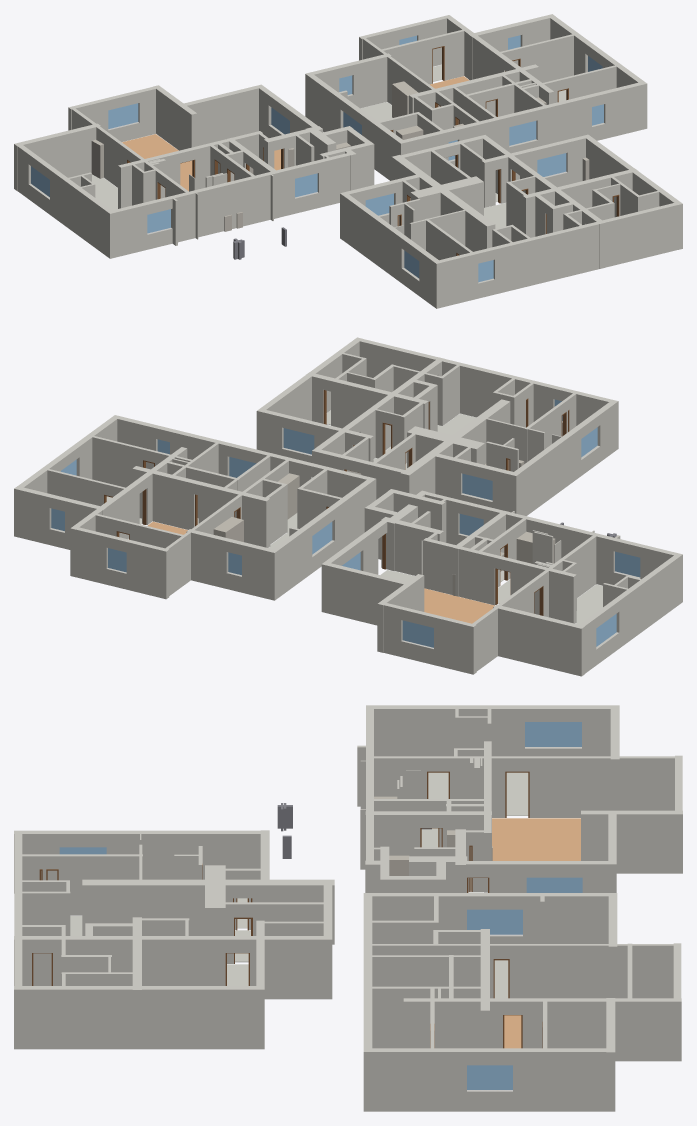
3 renders of one model, top to bottom at view 1: azimuth 30°, elevation 25°; view 2: azimuth 150°, elevation 25°; view 3: azimuth 270°, elevation 25°, orthographic. The views are drawn at different scales.
Parts seen in each view (by area): view 1: walls, floor_0_Living_Room, furniture_1_closet, floor_4_Undefined, window_33, window_12, window_28, furniture_0_closet, window_9; view 2: walls, floor_0_Living_Room, floor_4_Undefined, window_33, window_12, window_23, furniture_1_closet, furniture_10_closet, furniture_11_closet, window_9; view 3: walls, floor_0_Living_Room, floor_4_Undefined, window_3, window_5, window_2, window_0, floor_20_Undefined, railings, floor_3_Living_Room.
Part boxes in pixels (left/top/right/bottom): walls: left=14, top=14, right=682, bottom=308; floor_0_Living_Room: left=122, top=134, right=280, bottom=191; furniture_1_closet: left=392, top=81, right=418, bottom=117; floor_4_Undefined: left=92, top=174, right=117, bottom=210; window_33: left=108, top=103, right=138, bottom=128; window_12: left=537, top=153, right=566, bottom=176; window_28: left=509, top=121, right=536, bottom=145; furniture_0_closet: left=91, top=139, right=103, bottom=178; window_9: left=147, top=209, right=170, bottom=233; walls: left=14, top=337, right=682, bottom=676; floor_0_Living_Room: left=424, top=588, right=494, bottom=623; floor_4_Undefined: left=575, top=584, right=602, bottom=624; window_33: left=402, top=620, right=433, bottom=647; window_12: left=283, top=428, right=314, bottom=454; window_23: left=462, top=473, right=492, bottom=500; furniture_1_closet: left=213, top=517, right=243, bottom=541; furniture_10_closet: left=278, top=473, right=299, bottom=519; furniture_11_closet: left=516, top=531, right=555, bottom=563; window_9: left=615, top=551, right=640, bottom=577; walls: left=14, top=705, right=682, bottom=1111; floor_0_Living_Room: left=492, top=818, right=580, bottom=860; floor_4_Undefined: left=428, top=772, right=528, bottom=815; window_3: left=525, top=722, right=581, bottom=746; window_5: left=467, top=909, right=522, bottom=934; window_2: left=467, top=1065, right=512, bottom=1089; window_0: left=526, top=877, right=582, bottom=892; floor_20_Undefined: left=70, top=916, right=248, bottom=985; railings: left=277, top=803, right=431, bottom=858; floor_3_Living_Room: left=504, top=1015, right=521, bottom=1048.
Bounding box in the file's own units: 33.72 × 2.72 × 27.48.
